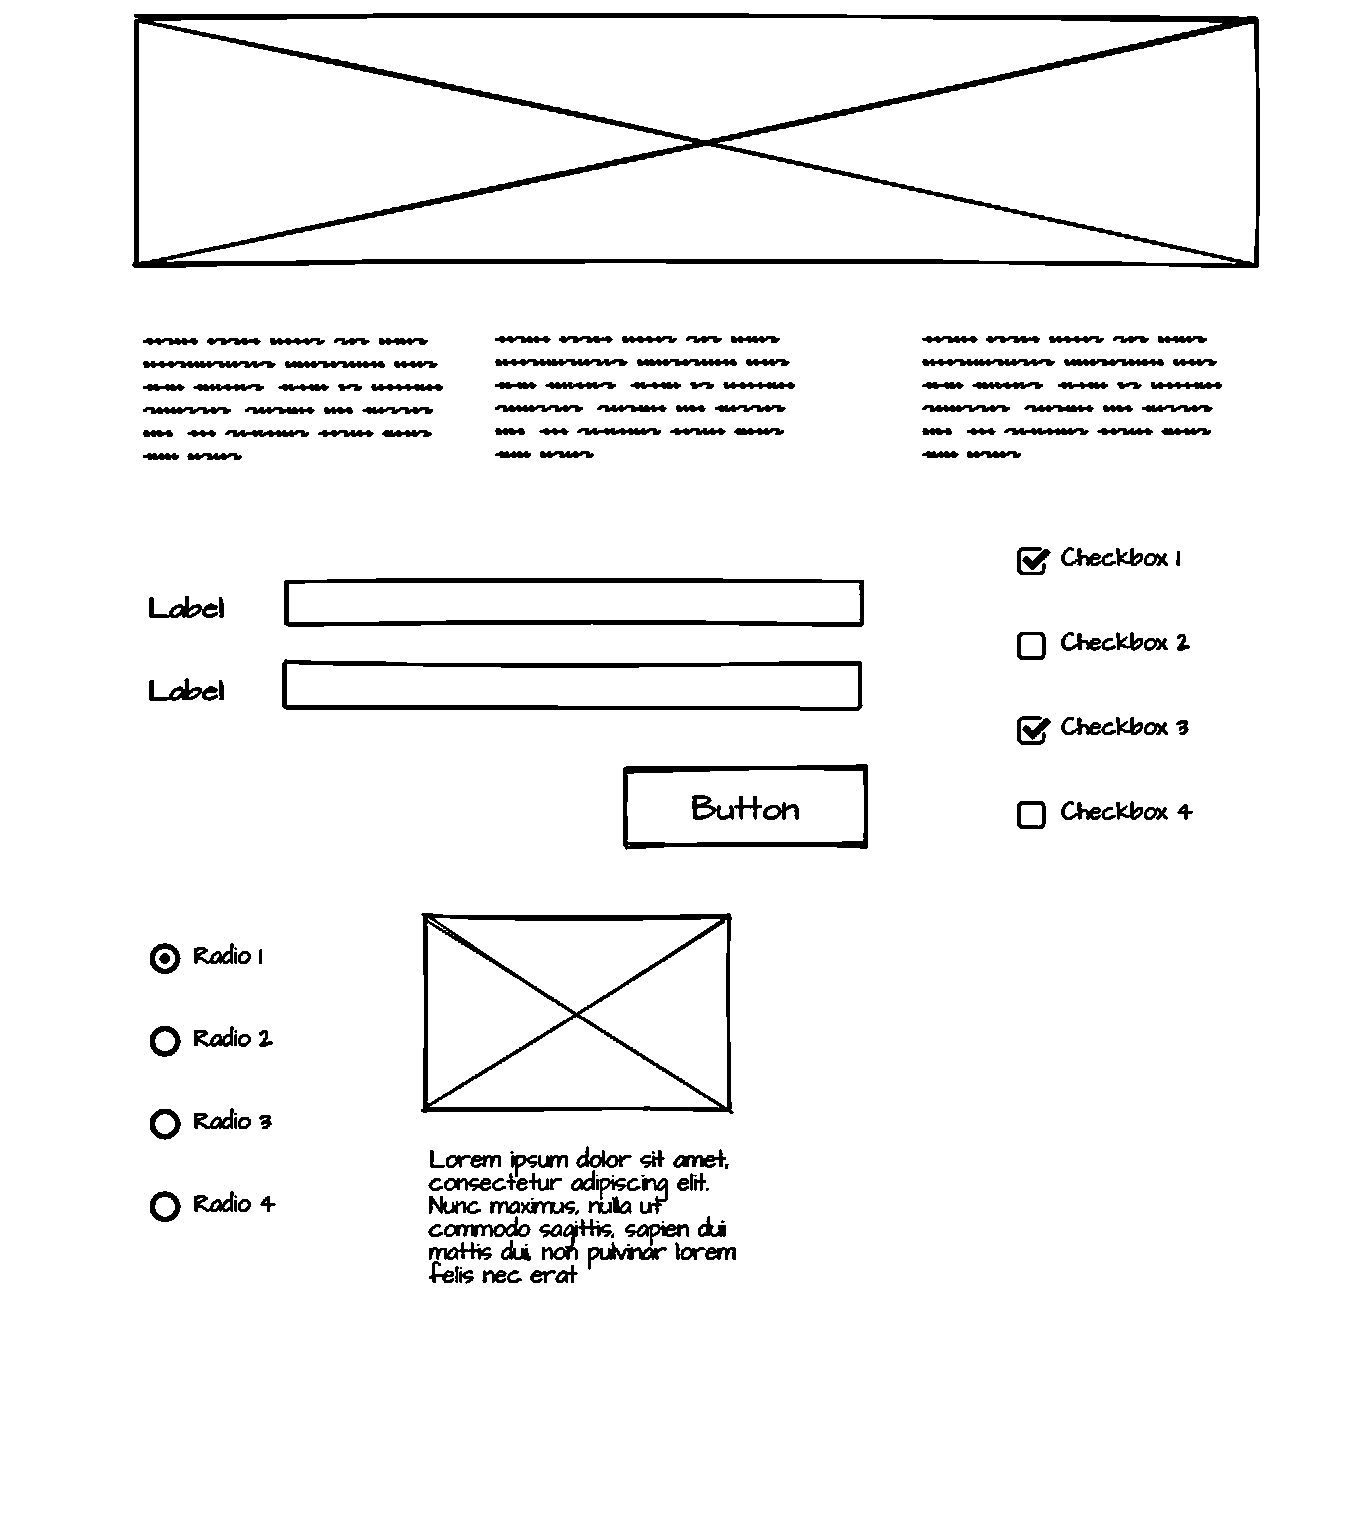Button: (617, 759, 876, 854)
Check Box: (1007, 622, 1196, 672), (1010, 538, 1192, 584), (1010, 794, 1196, 836), (1010, 705, 1195, 748)
Image: (127, 5, 1268, 273), (421, 910, 734, 1117)
Label: (136, 670, 231, 708), (142, 589, 233, 629)
Paragraph: (421, 1142, 744, 1296), (136, 326, 448, 468), (910, 326, 1224, 465), (485, 326, 796, 463)
Radio Button: (145, 1181, 280, 1229), (142, 1101, 269, 1147), (145, 1019, 278, 1061), (145, 936, 278, 977)
Textbox: (278, 654, 869, 715), (278, 575, 866, 632)
